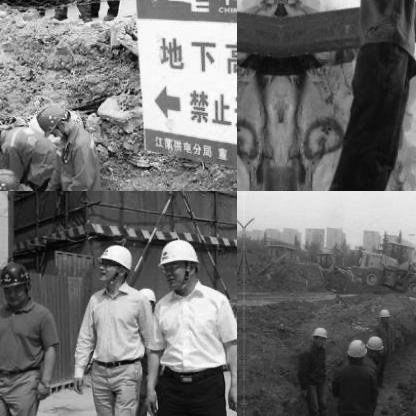Helmet: (158, 238, 202, 288), (96, 242, 136, 286), (30, 100, 74, 138), (0, 258, 33, 307), (344, 338, 366, 364), (361, 333, 384, 357), (0, 165, 17, 190), (311, 325, 325, 347), (375, 306, 389, 324)
